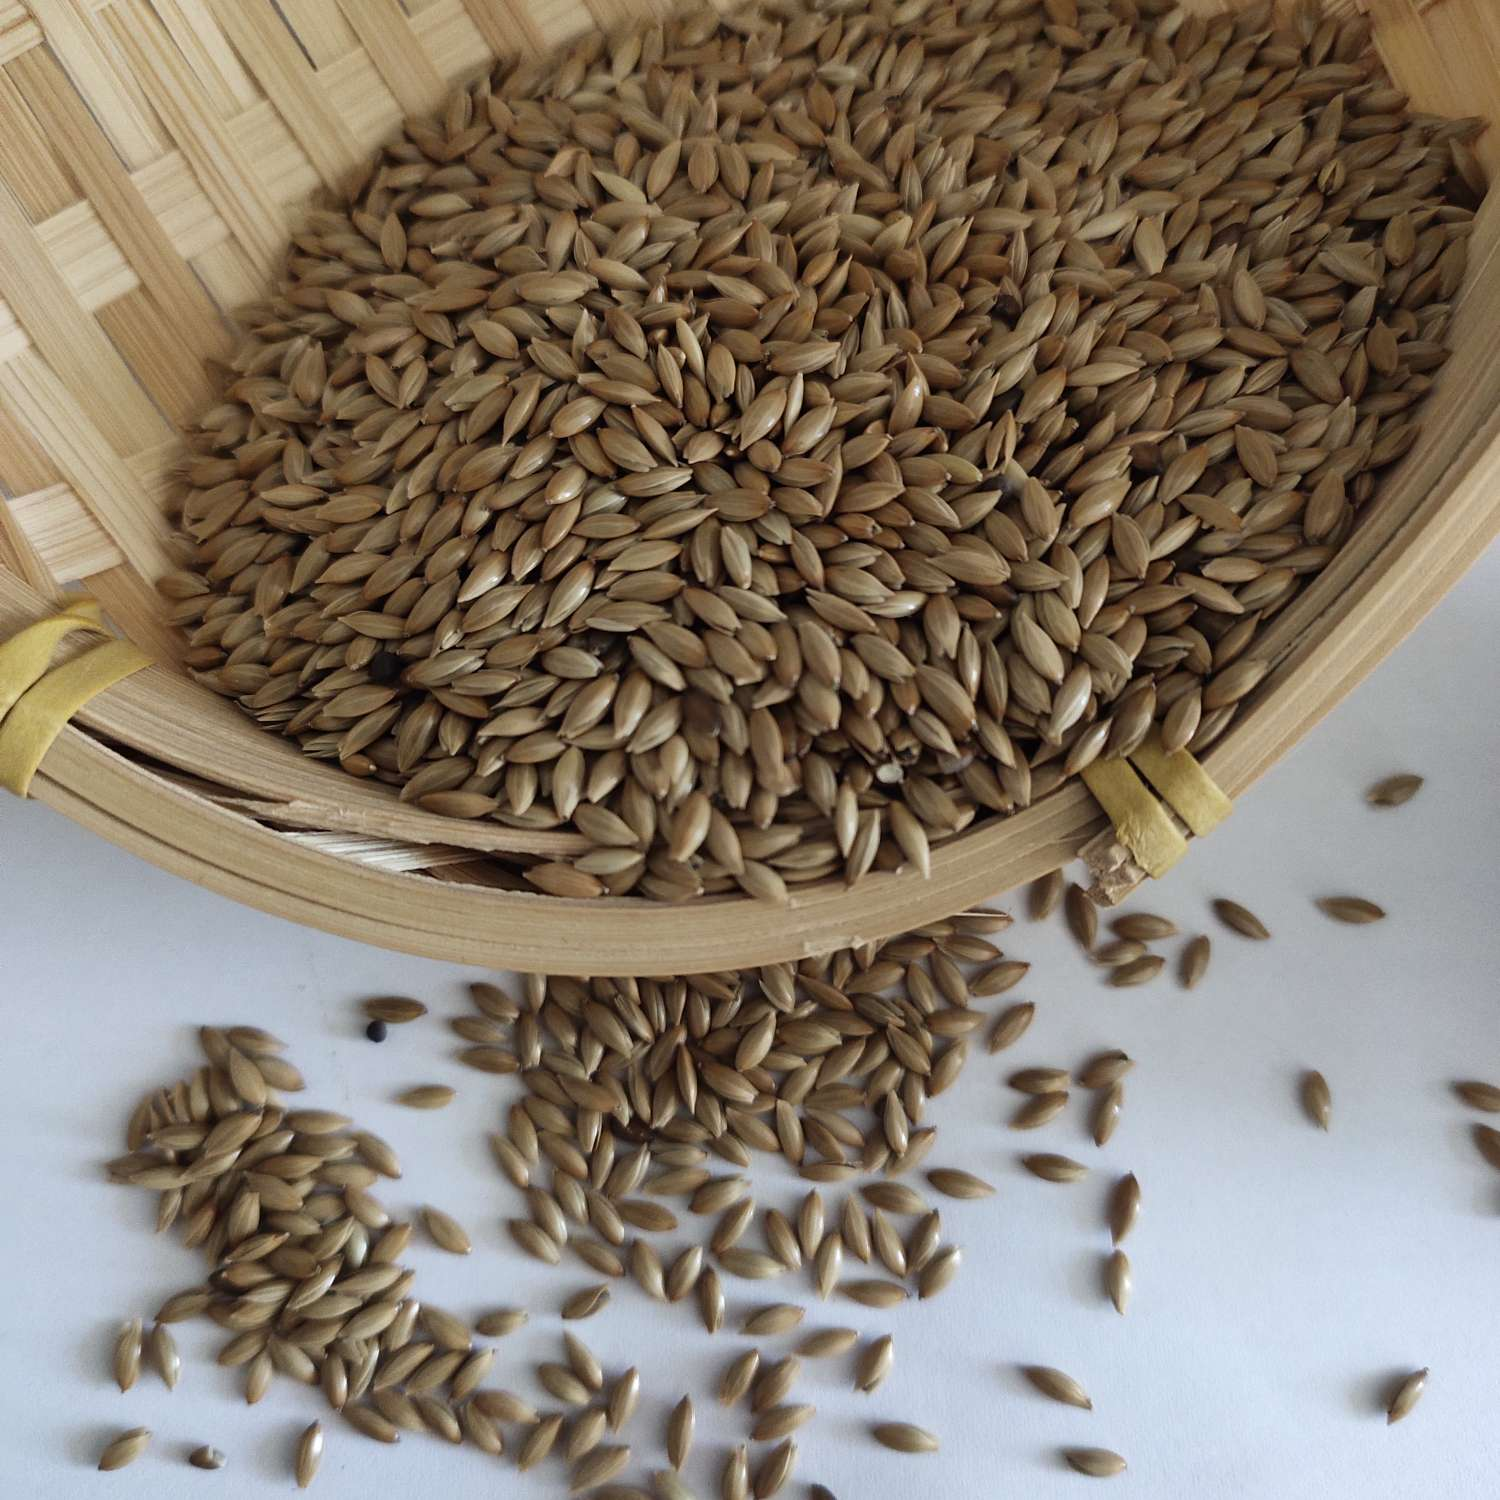seed: (141, 16, 1500, 902), (65, 902, 1132, 1500)
